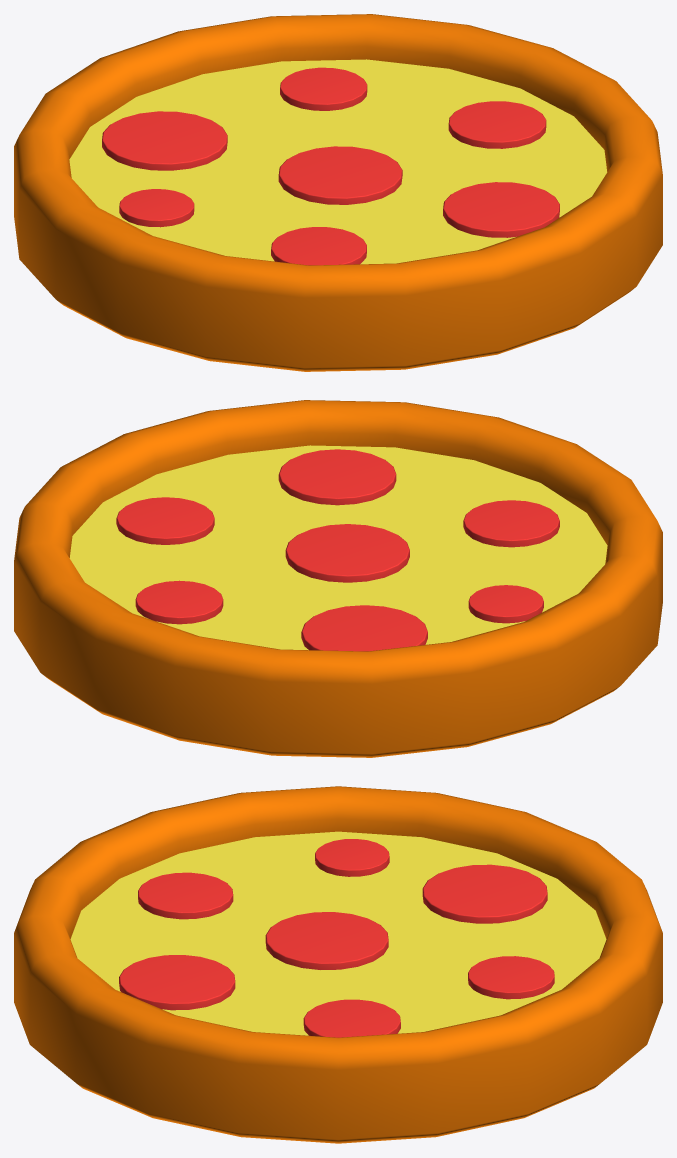
The model's file is Store_1_Pizza_1.glb.
3 renders of one model, top to bottom at view 1: azimuth 30°, elevation 25°; view 2: azimuth 150°, elevation 25°; view 3: azimuth 270°, elevation 25°, orthographic.
Visible parts, largest first — view 1: Store_1_Pizza_1; view 2: Store_1_Pizza_1; view 3: Store_1_Pizza_1.
Boxes of the visible parts, bbox=[...] form: Store_1_Pizza_1: bbox=[14, 14, 662, 371]; Store_1_Pizza_1: bbox=[14, 400, 662, 757]; Store_1_Pizza_1: bbox=[14, 786, 662, 1143].
Bounding box in the file's own units: 0.4429 × 0.0708 × 0.4429.
Materials: 1 (1 with a texture image).
